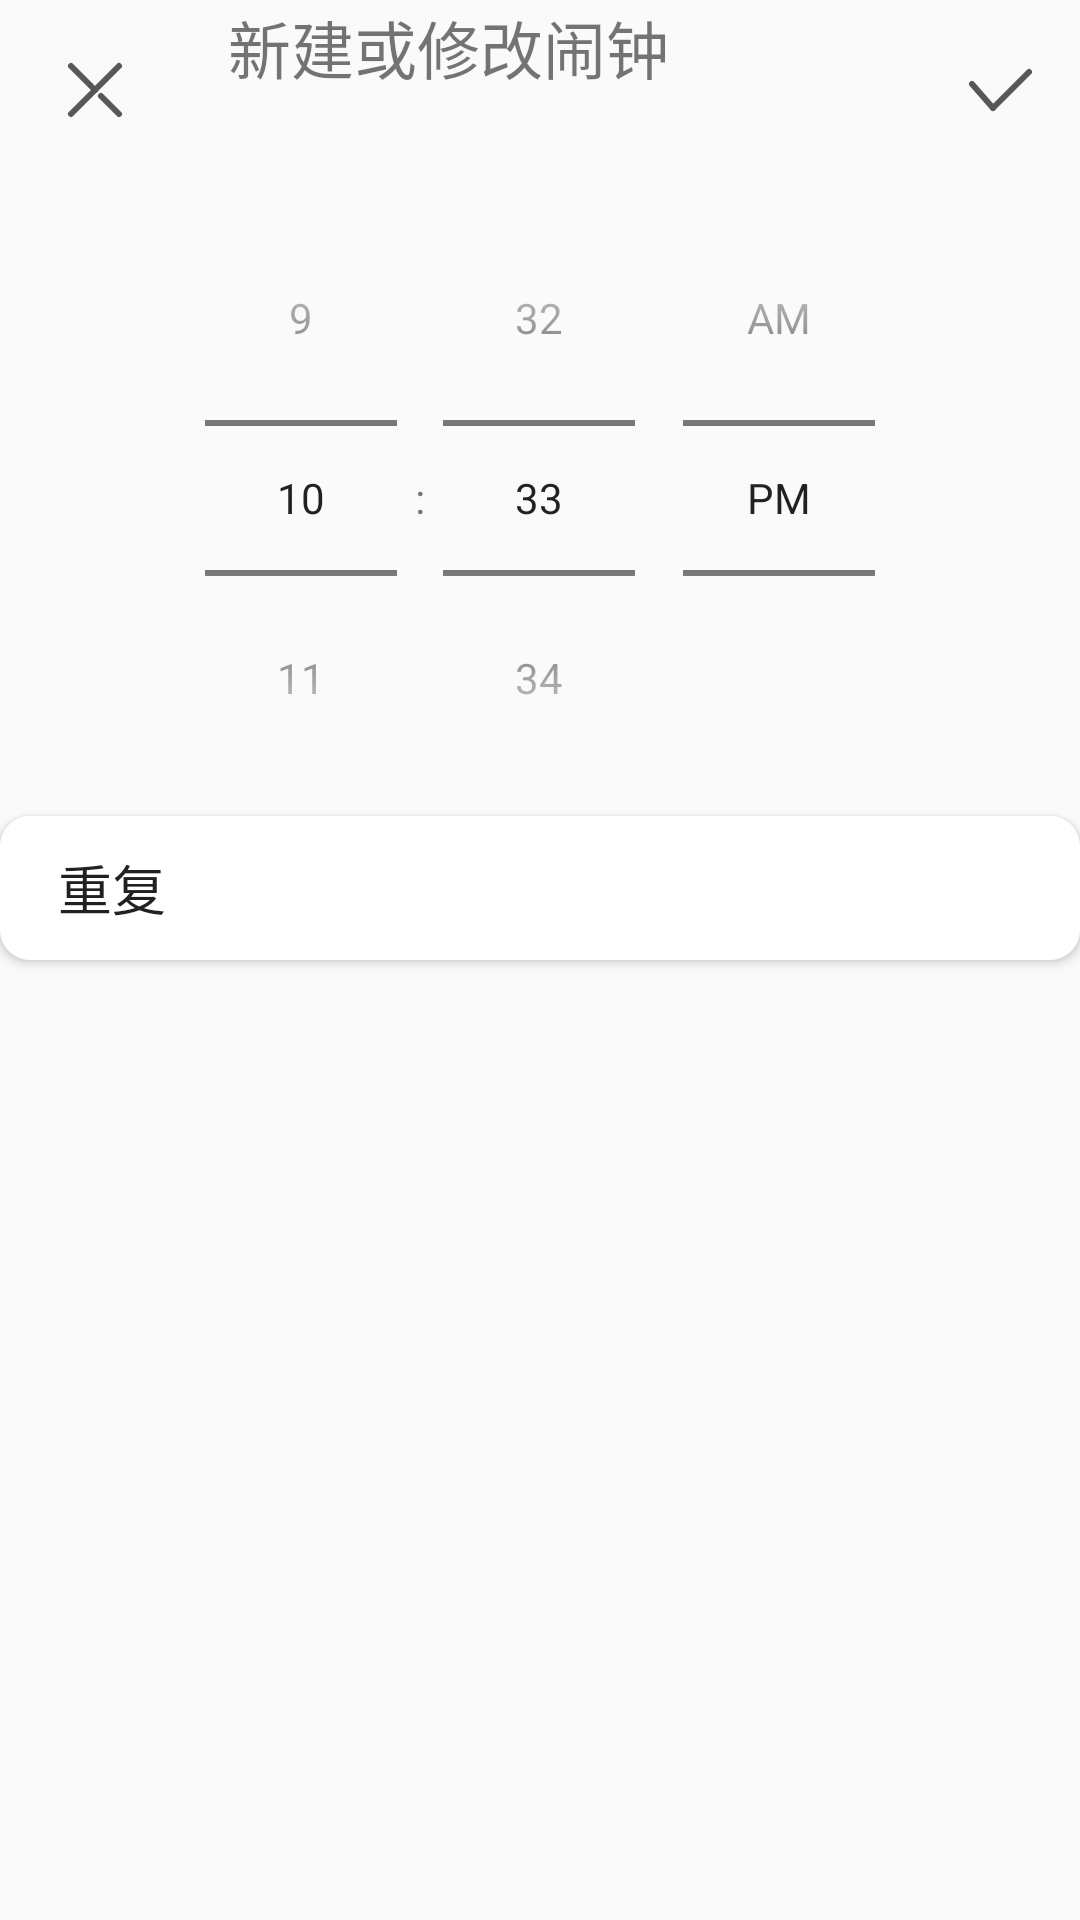

Icons on this 1080x1920 Android screen, each with its box as {"left": x1, "top": y1, "right": x2, "bottom": y2}:
yes: {"left": 969, "top": 69, "right": 1032, "bottom": 111}
